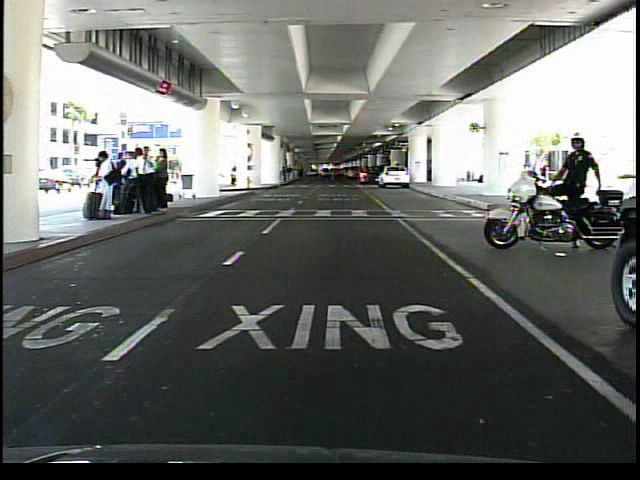person: (550, 129, 600, 257)
